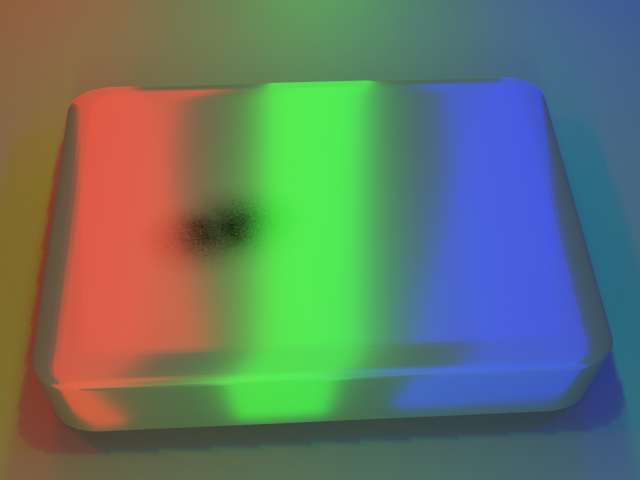stain: (111, 171, 327, 292)
